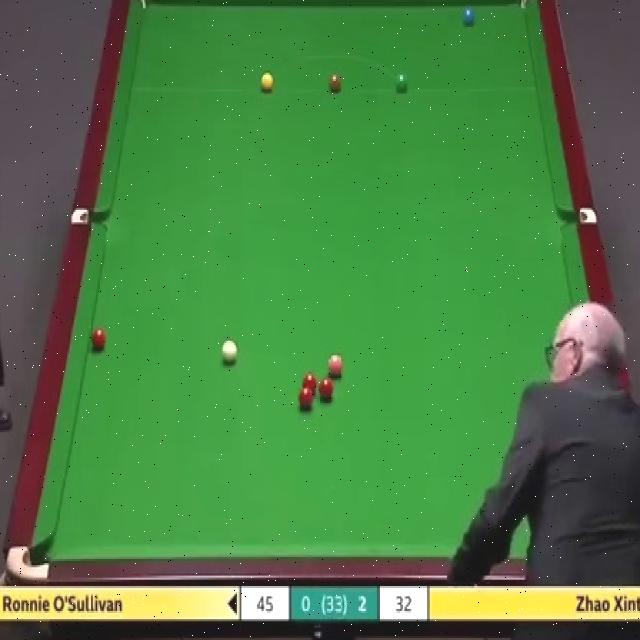blue-ball: (461, 8, 477, 28)
brown-ball: (328, 75, 342, 92)
green-ball: (395, 71, 409, 95)
pink-ball: (326, 354, 344, 378)
red-ball: (319, 377, 334, 405), (298, 386, 314, 410), (302, 372, 317, 396), (90, 328, 107, 349)
white-ball: (222, 342, 240, 371)
yellow-ball: (260, 72, 274, 93)
